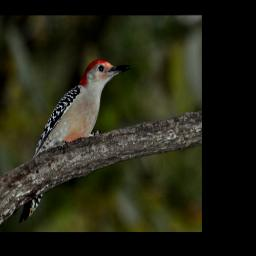Woodpecker: (19, 58, 132, 224)
